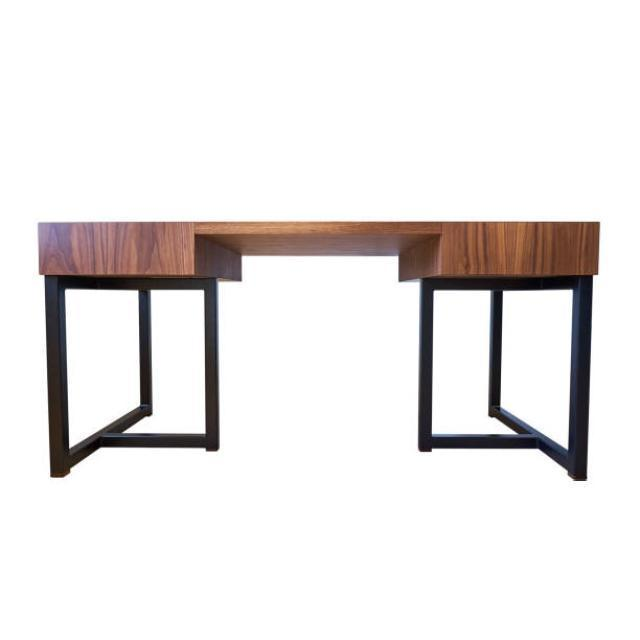table: (37, 218, 600, 482), (36, 221, 242, 477)
